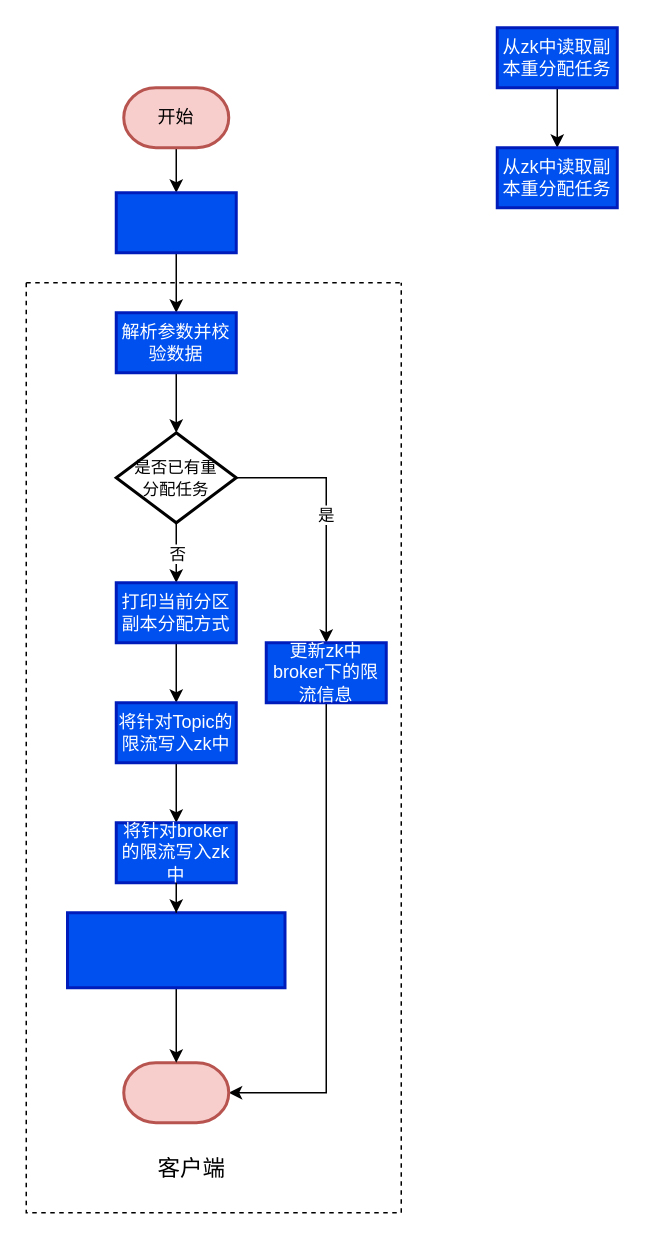
This 645x1239 diagram has some shape labels left out. The shapes that lost their labels are listed below. From the top down, each one's centre as x and y in pixels, then its label:
(x=175, y=222): 执行分区副本重分配脚本
(x=175, y=949): 将分区重分配任务写到zk /admin/reassign_partitions节点
(x=176, y=1092): 结束
